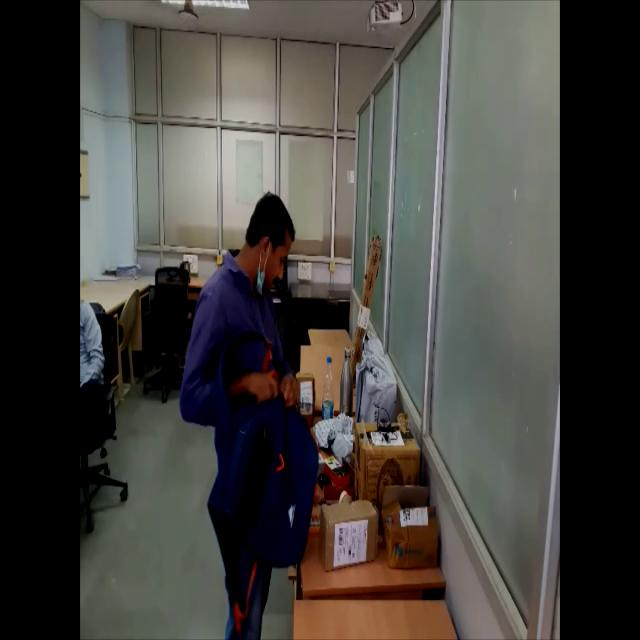normal: (178, 189, 310, 640)
